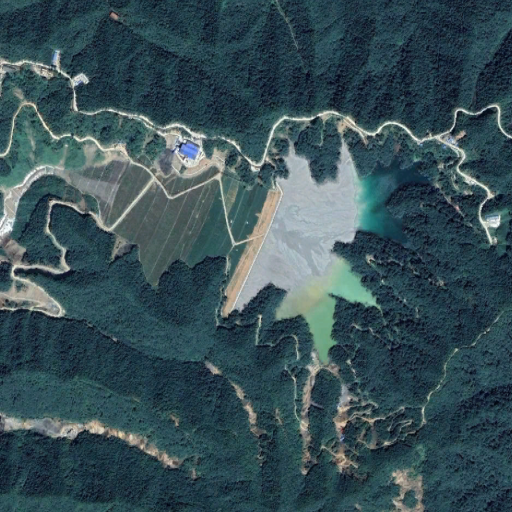tp: (50, 138, 430, 371)
